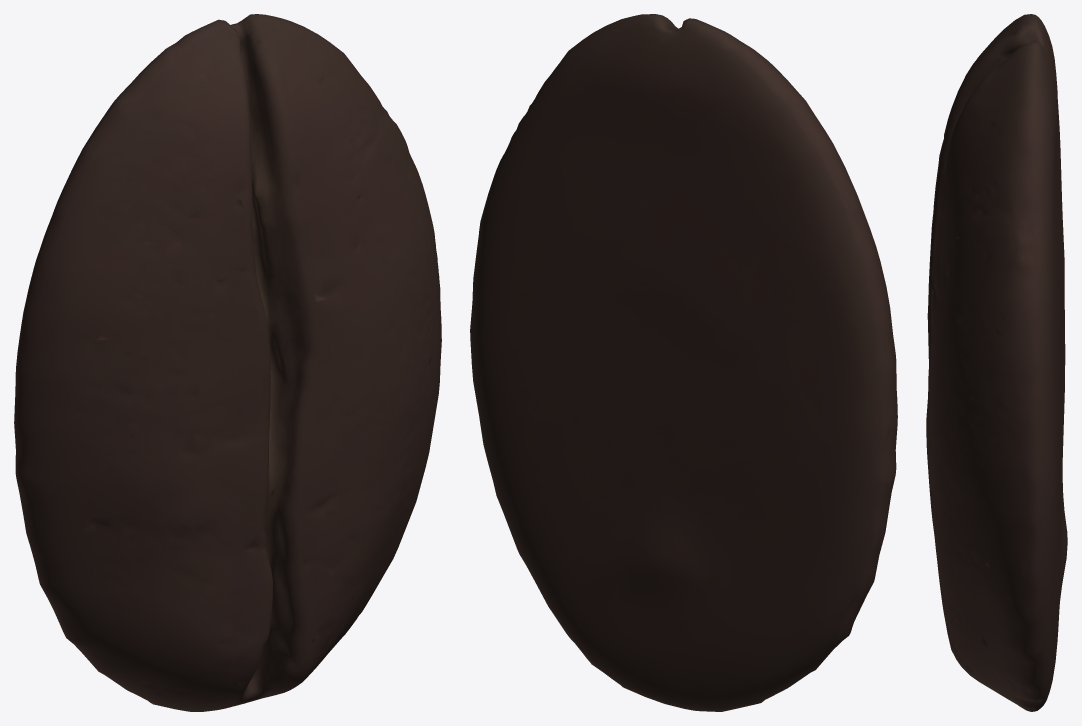
File: coffeeBean.fbx
The picture shows the model from 3 angles, left to right: view 1: azimuth 30°, elevation 25°; view 2: azimuth 150°, elevation 25°; view 3: azimuth 270°, elevation 25°; orthographic projection. The views are drawn at different scales.
Visible parts, largest first — view 1: node_0; view 2: node_0; view 3: node_0.
Boxes of the visible parts, x1,y1,x2,y2 form: node_0: (14,14,441,711); node_0: (470,14,897,711); node_0: (926,14,1067,711).
Size of the model in its own units: 76.45 by 119 by 23.04.
1 material, 1 textured.
